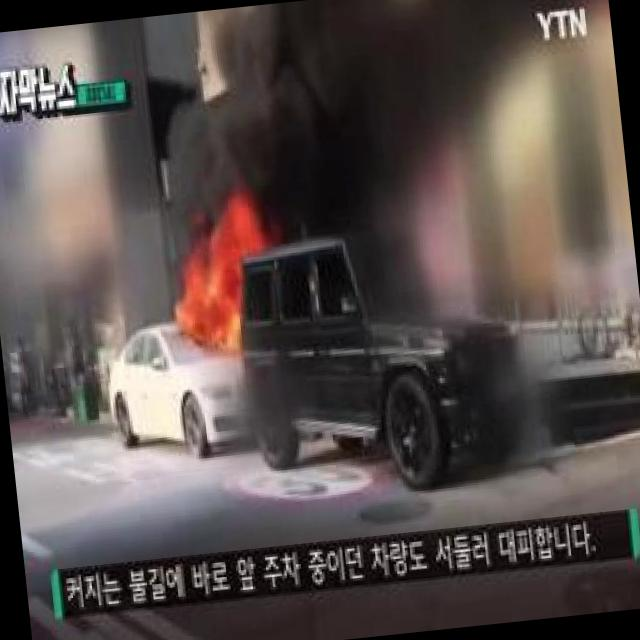Fire: (162, 223, 257, 354)
Smoke: (132, 3, 296, 226)
